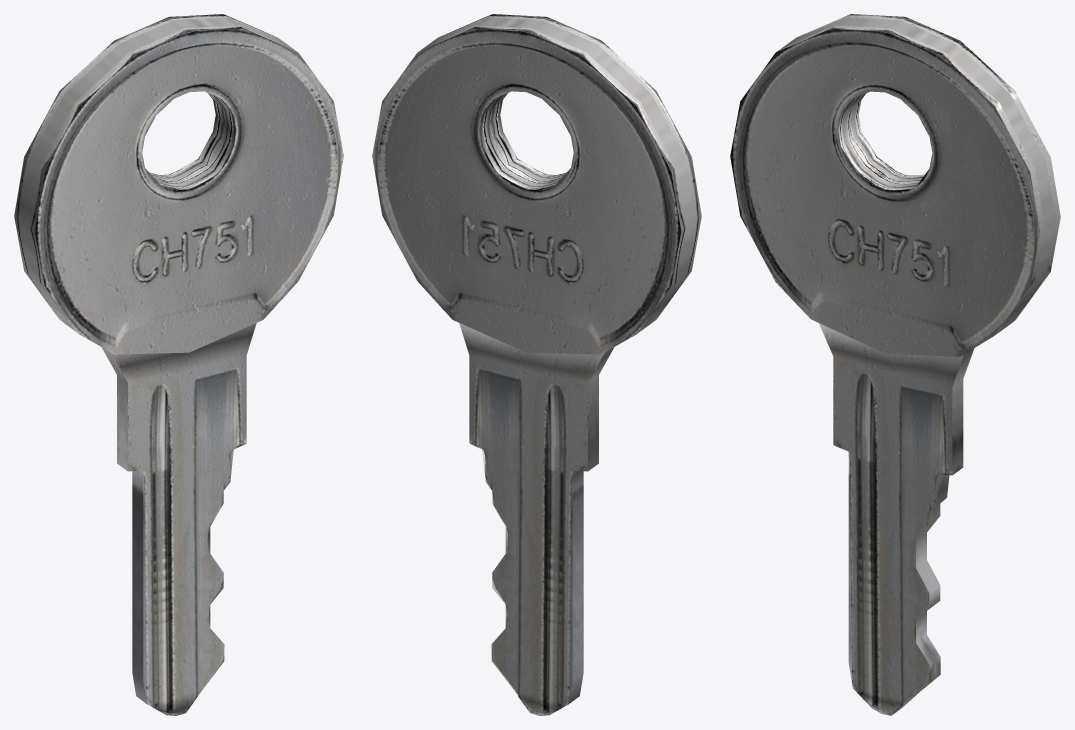
The model's file is key.fbx.
3 renders of one model, left to right at view 1: azimuth 30°, elevation 25°; view 2: azimuth 150°, elevation 25°; view 3: azimuth 330°, elevation 25°, orthographic.
Visible parts, largest first — view 1: Key; view 2: Key; view 3: Key.
Part boxes in pixels (x1=…): Key: x1=14, y1=14, x2=343, y2=715; Key: x1=372, y1=14, x2=701, y2=715; Key: x1=730, y1=14, x2=1060, y2=715.
Size of the model in its own units: 55.24 by 117 by 6.33.
1 material, 1 textured.
